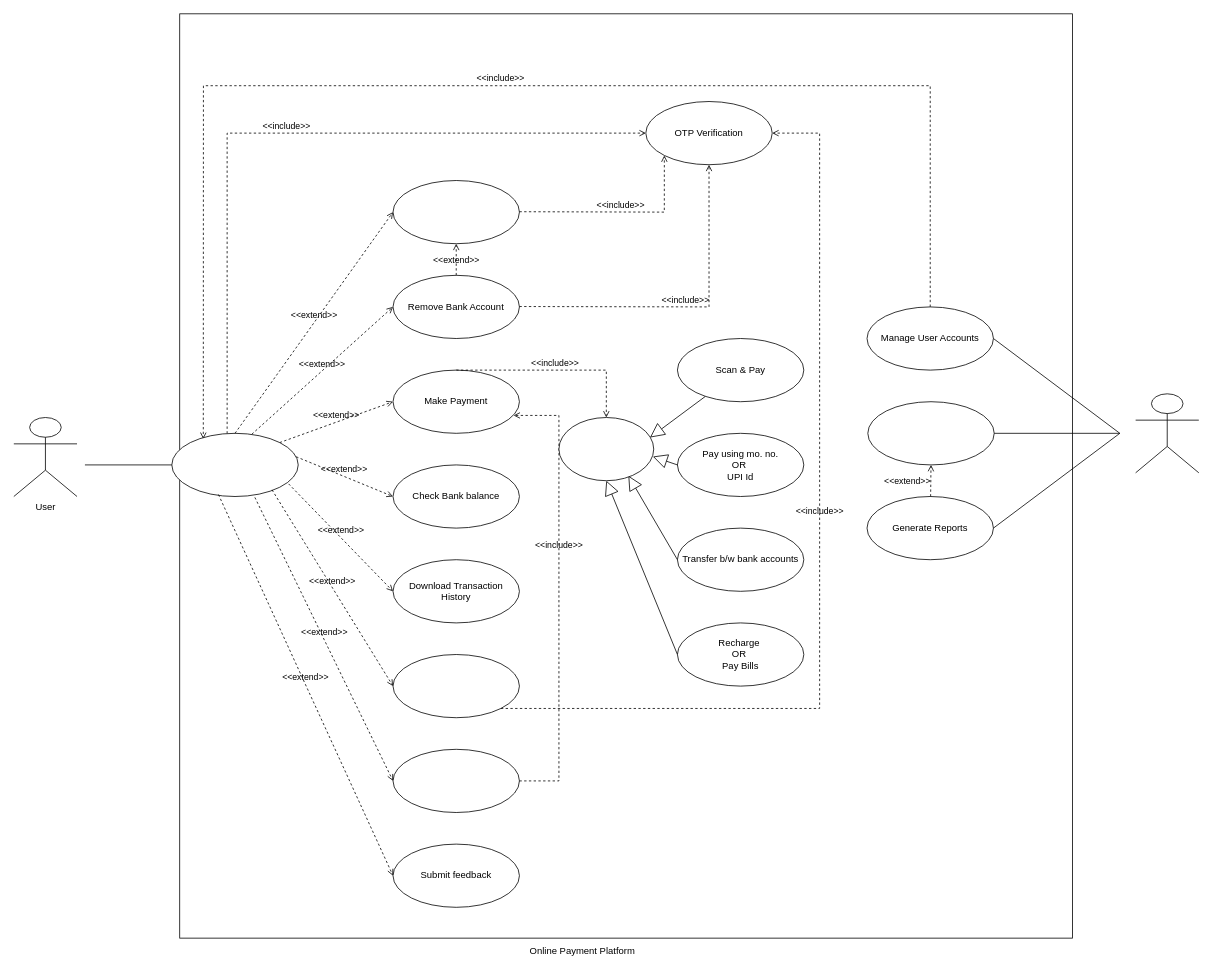
The diagram is 1213 pixels wide and 976 high, and some of its shapes have lost their labels. The box of each missing label's shape, as (x1, y1, x2, y2) in pixels:
Add Bank Account: (392, 180, 519, 244)
Admin: (1135, 393, 1199, 473)
Monitor & Flag Fraudulent Transactions: (867, 401, 994, 465)
Redeem bonus: (392, 749, 519, 813)
Register & Login: (171, 433, 298, 497)
Upadate Profile: (392, 654, 519, 718)
UPI Transaction: (558, 417, 654, 481)
